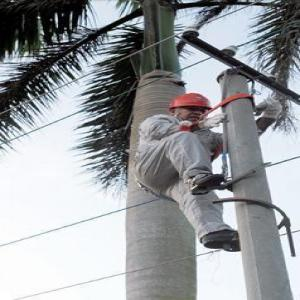red: (169, 93, 213, 125)
